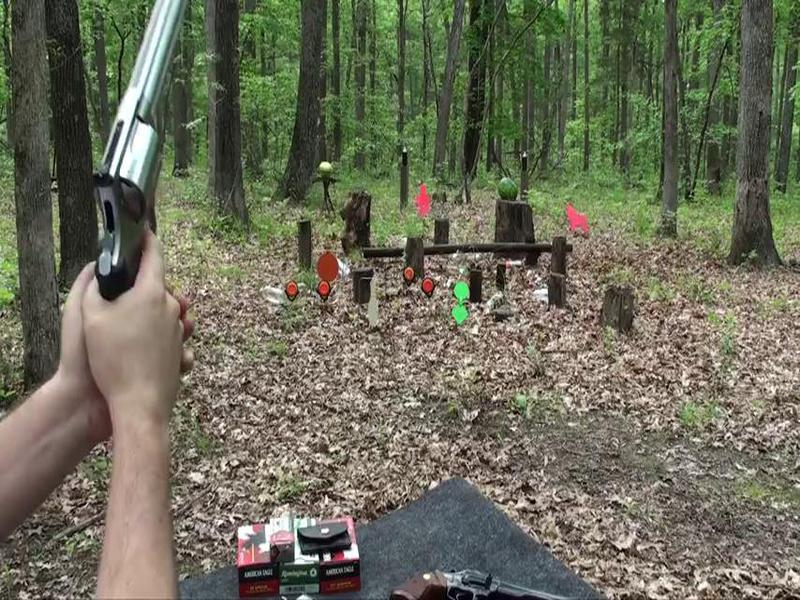Revolver: (43, 1, 204, 316)
